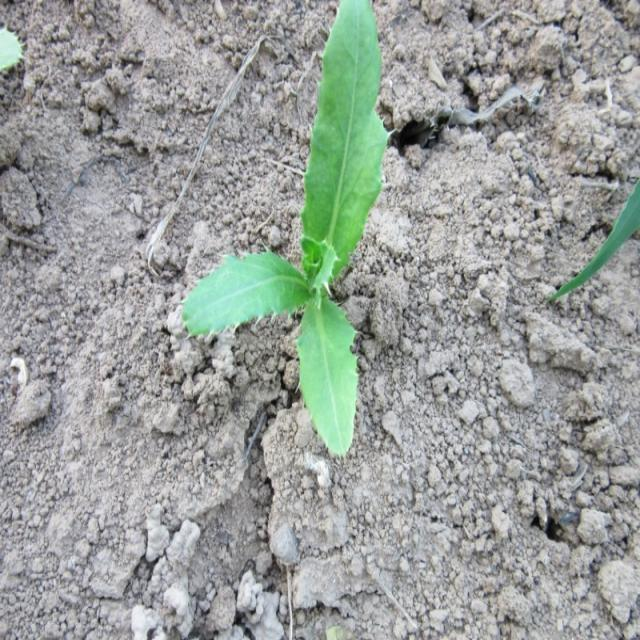cs: (178, 0, 389, 459)
